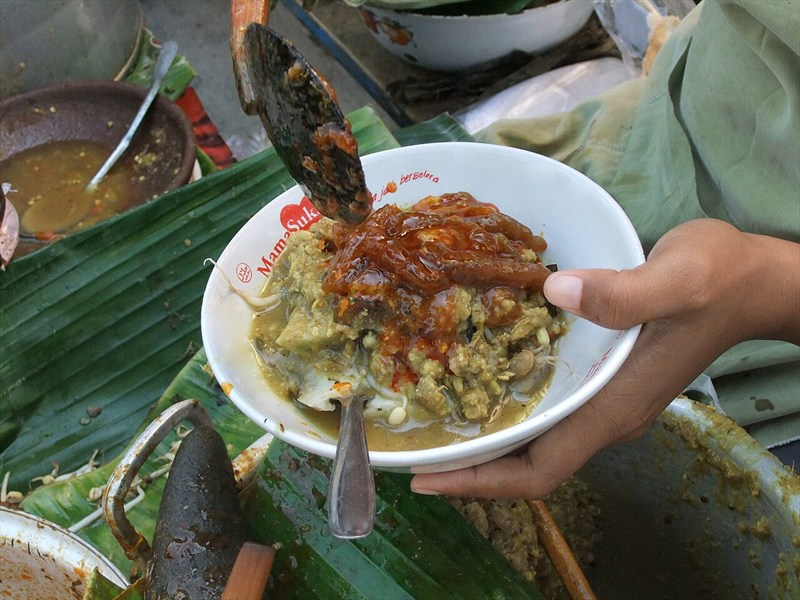Tempe Goreng: (77, 89, 653, 511)
